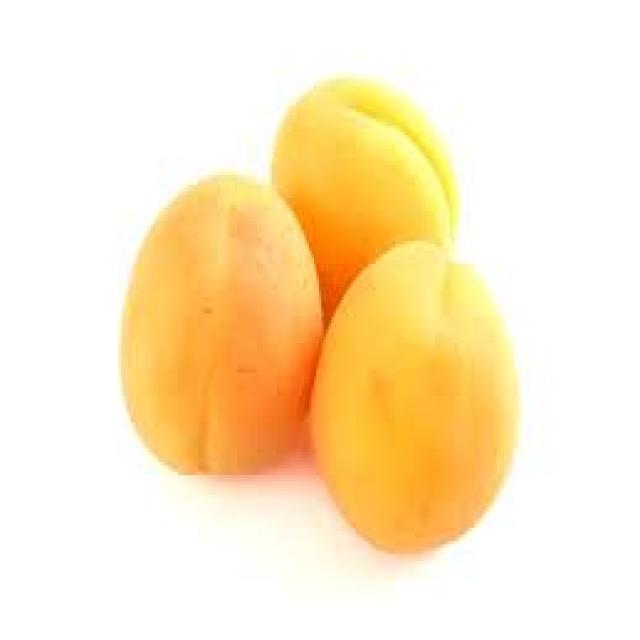apricot: (119, 56, 526, 554)
